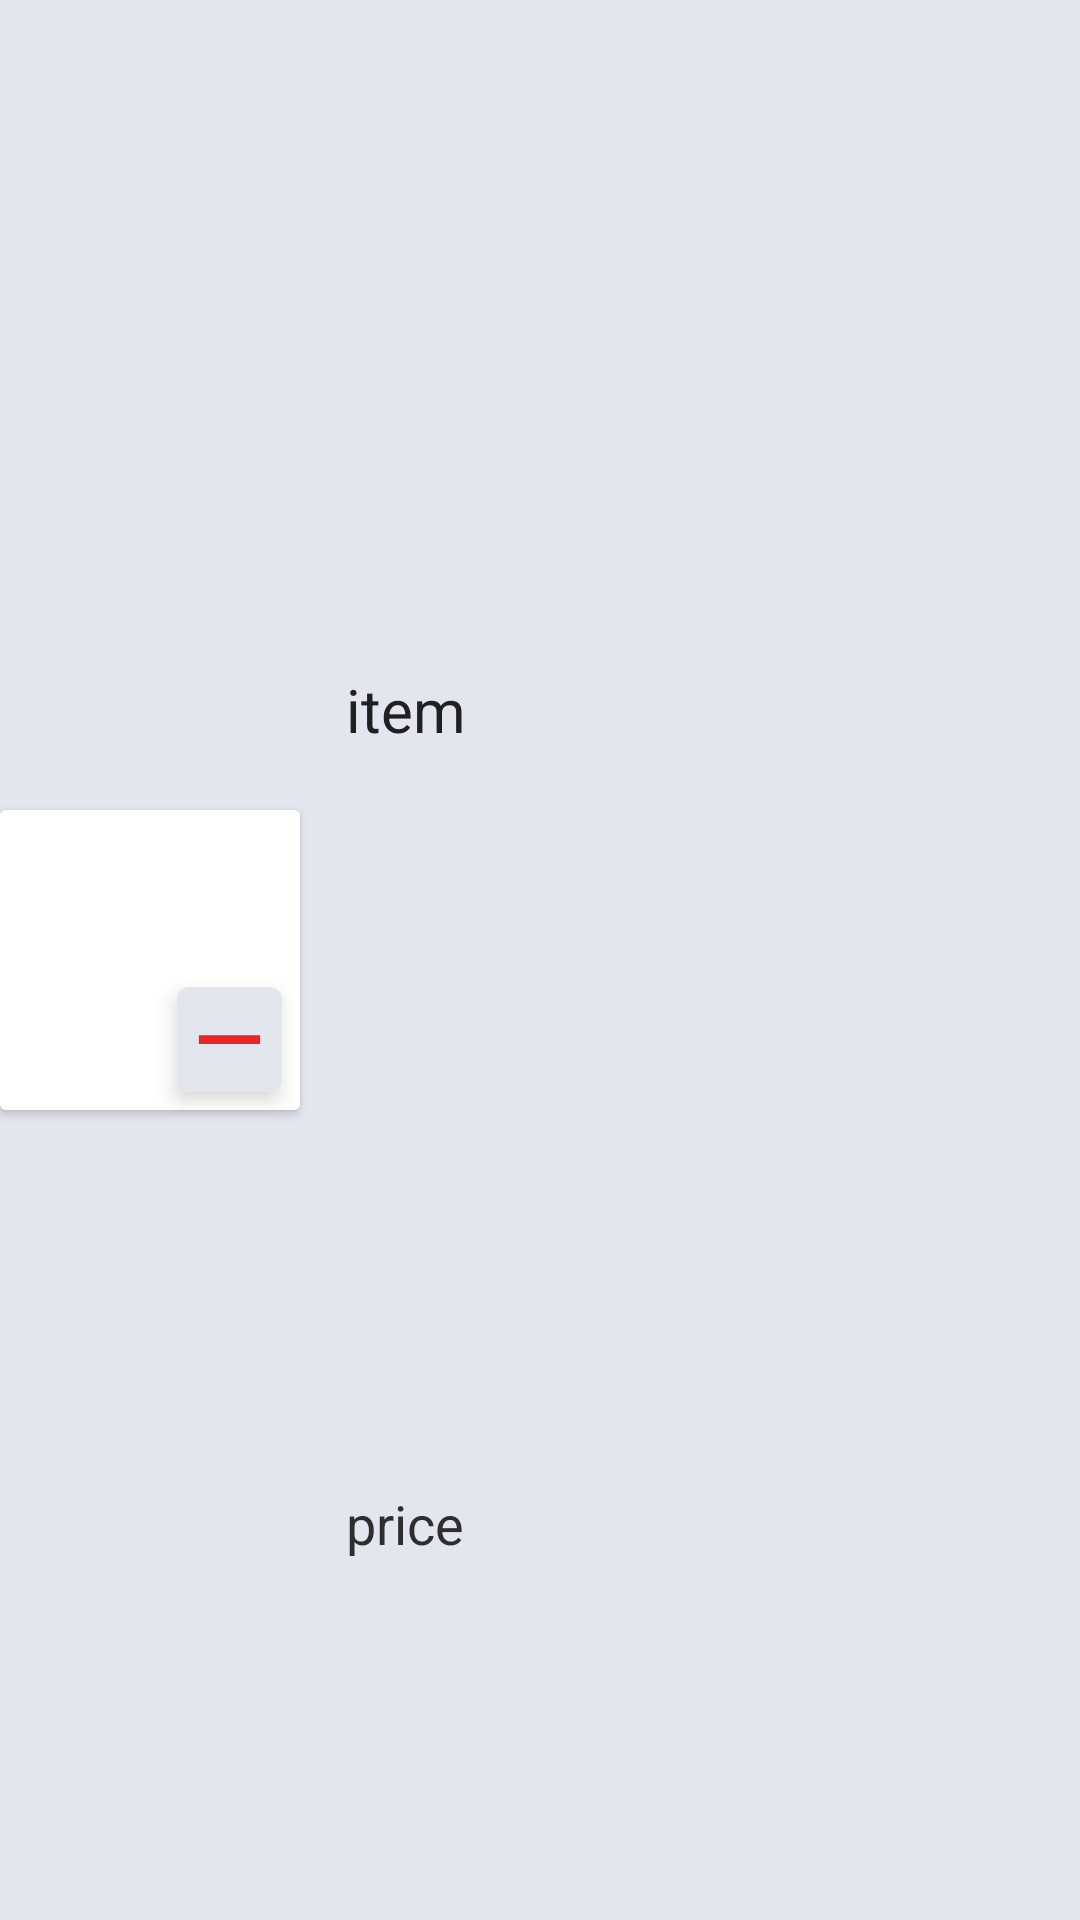

Screen size 1080×1920. Icon name, then its center in pixels as (x=x, y=y):
remove: (x=229, y=1039)
